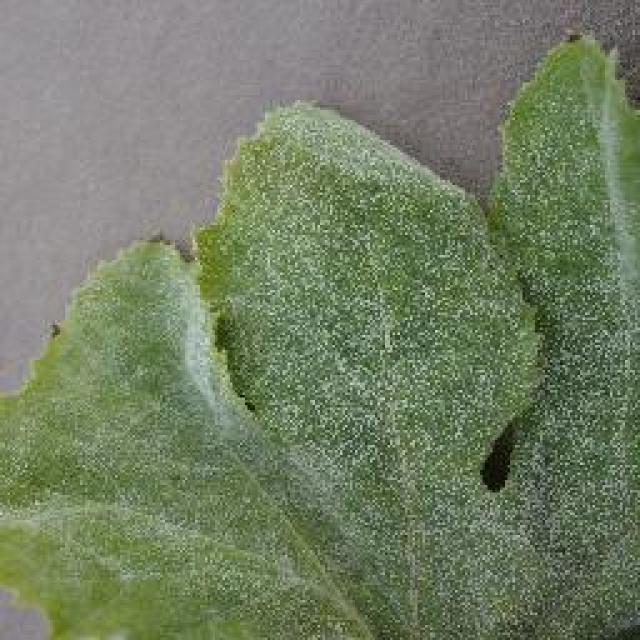Squ_Powdery_mildew: (85, 197, 619, 591)
